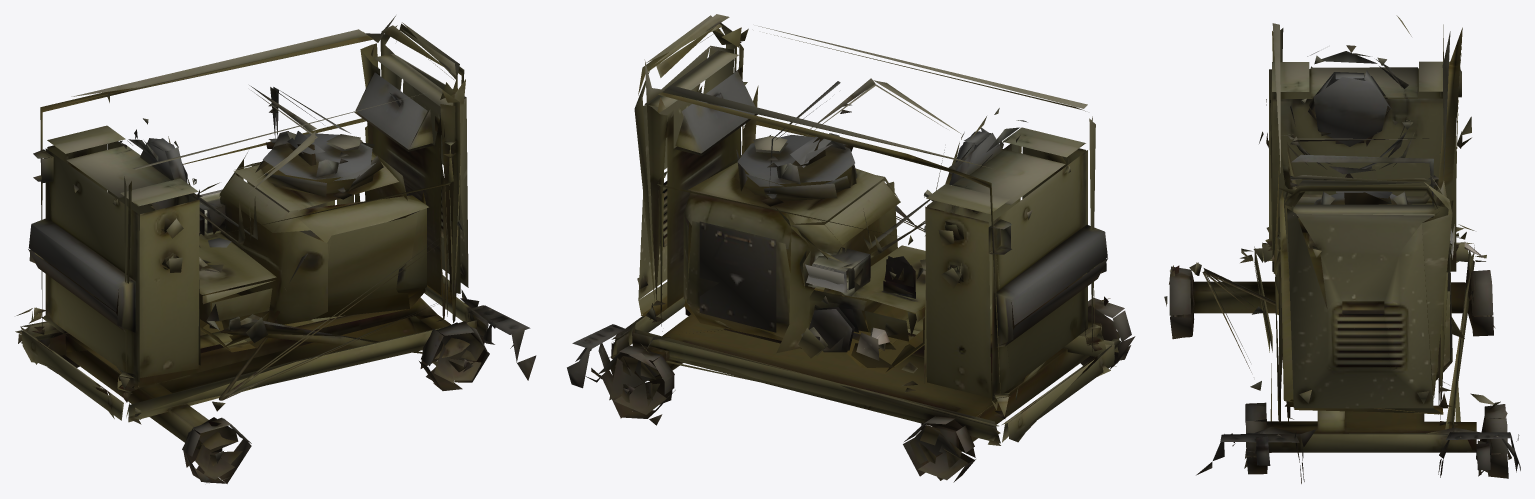
The model's file is ch4_meridian_generator_LOD3.glb.
The picture shows the model from 3 angles, left to right: view 1: azimuth 30°, elevation 25°; view 2: azimuth 150°, elevation 25°; view 3: azimuth 270°, elevation 25°; orthographic projection. The views are drawn at different scales.
Visible parts, largest first — view 1: tripo_node_9e752b1c-60be-4cdb-9f9e-50ec3e205cbf; view 2: tripo_node_9e752b1c-60be-4cdb-9f9e-50ec3e205cbf; view 3: tripo_node_9e752b1c-60be-4cdb-9f9e-50ec3e205cbf.
Boxes of the visible parts, x1,y1,x2,y2 form: tripo_node_9e752b1c-60be-4cdb-9f9e-50ec3e205cbf: [15, 16, 536, 483]; tripo_node_9e752b1c-60be-4cdb-9f9e-50ec3e205cbf: [567, 14, 1135, 482]; tripo_node_9e752b1c-60be-4cdb-9f9e-50ec3e205cbf: [1164, 15, 1520, 483].
Size of the model in its own units: 0.9988 by 0.7578 by 0.7623.
1 material, 1 textured.
